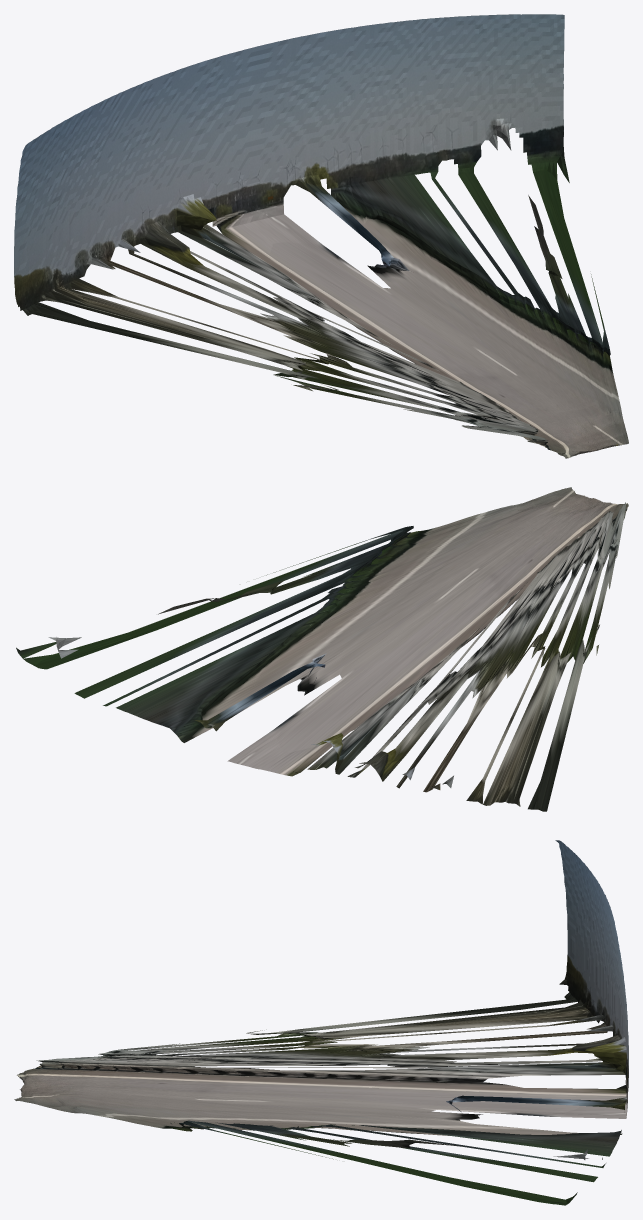
3 views of the same model, one above another, from view 1: azimuth 30°, elevation 25°; view 2: azimuth 150°, elevation 25°; view 3: azimuth 270°, elevation 25° (orthographic). The views are drawn at different scales.
Visible parts, largest first — view 1: defaultobject; view 2: defaultobject; view 3: defaultobject.
Part boxes in pixels (x1,y1,x2,y2): defaultobject: [14, 14, 628, 458]; defaultobject: [16, 487, 628, 811]; defaultobject: [14, 840, 628, 1205].
Size of the model in its own units: 41.16 by 13.24 by 44.8.
1 material, 1 textured.
